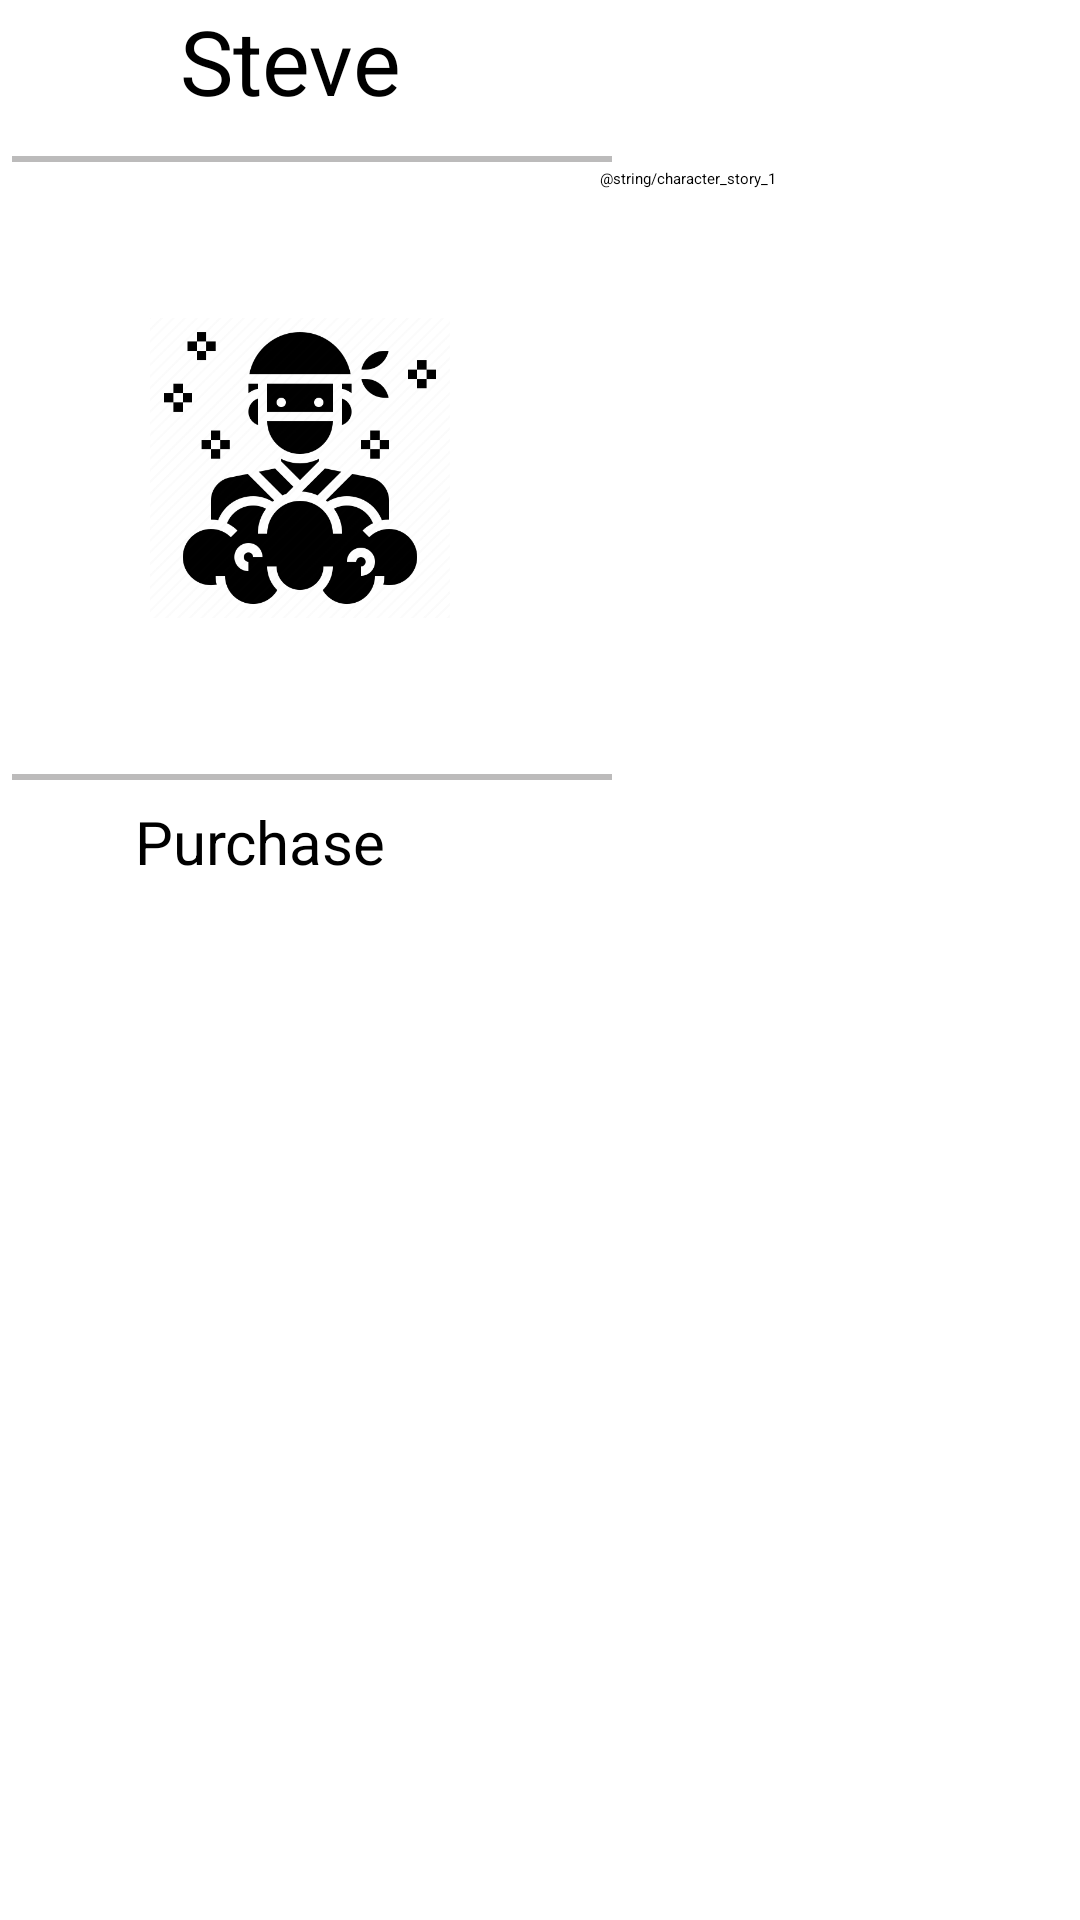

Named icons in this screenshot (1080w x 1920h) and their bounding boxes, (x1, y1, x2, y2):
shop skin person: (164, 332, 436, 604)
